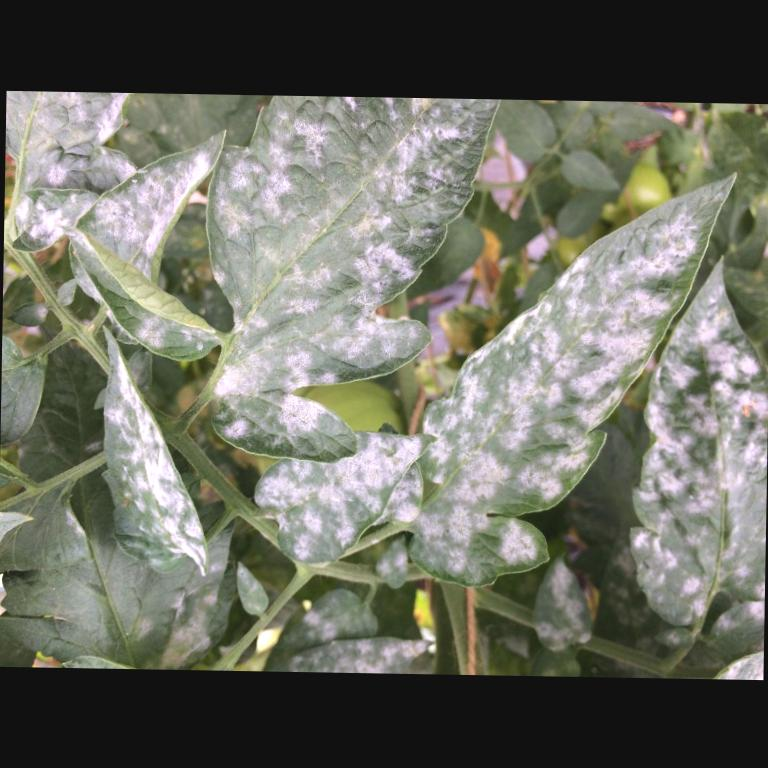powdery-mildew: (496, 235, 683, 401), (227, 138, 419, 294), (436, 401, 560, 491)
